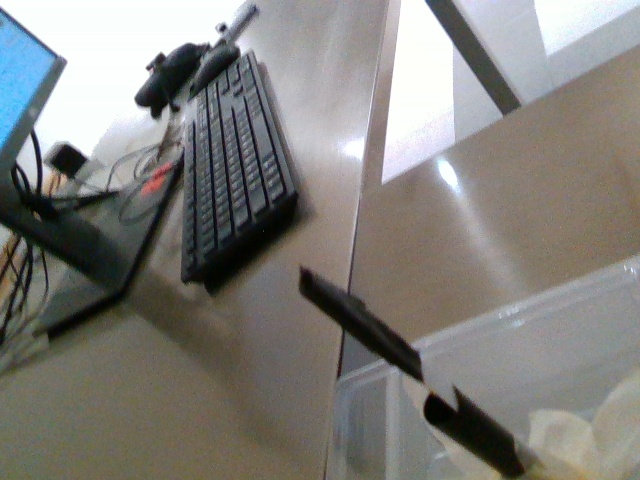test_strip: (298, 264, 458, 411)
